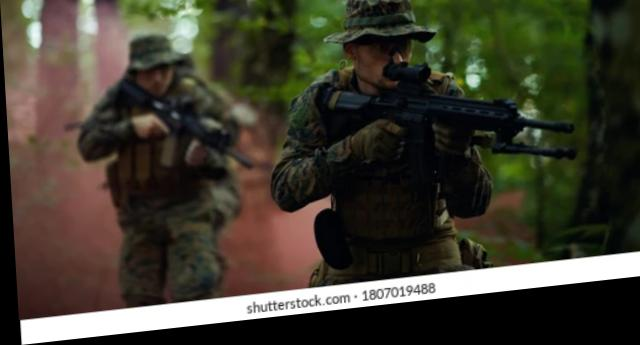other: (261, 0, 492, 286), (72, 34, 245, 309)
